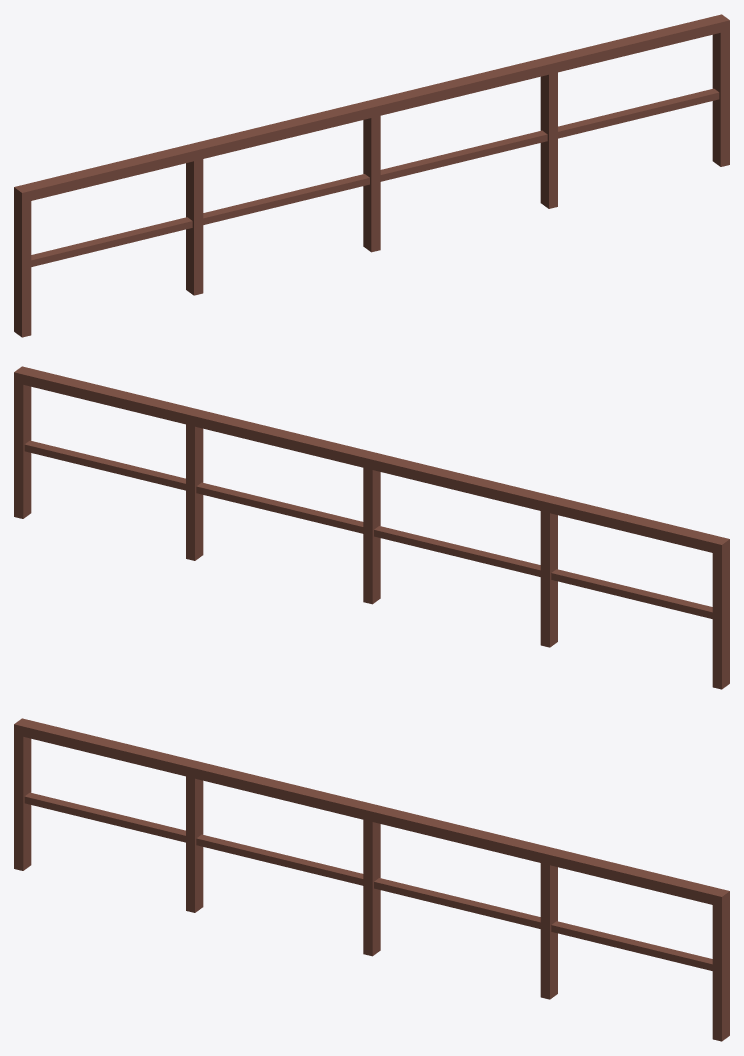
The model's file is Partitions_016.glb.
3 views of the same model, one above another, from view 1: azimuth 30°, elevation 25°; view 2: azimuth 150°, elevation 25°; view 3: azimuth 330°, elevation 25° (orthographic).
Visible parts, largest first — view 1: Partitions_016; view 2: Partitions_016; view 3: Partitions_016.
Part boxes in pixels (x1,y1,x2,y2): Partitions_016: (14, 14, 729, 337); Partitions_016: (14, 366, 729, 689); Partitions_016: (14, 718, 729, 1041).
Bounding box in the file's own units: 4 × 0.7809 × 0.0793.
1 material, 1 textured.
